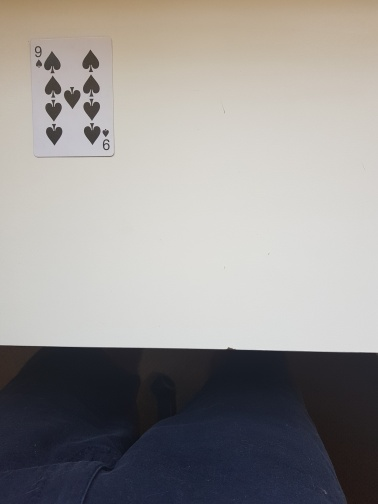nine: (29, 37, 115, 160)
